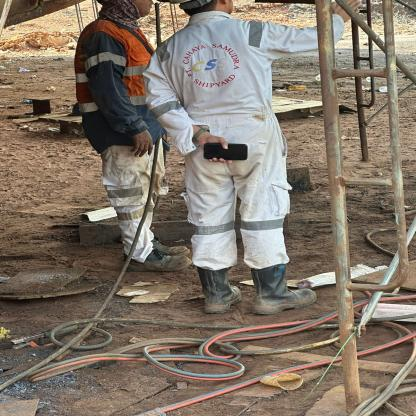bota: (249, 266, 318, 316), (196, 265, 244, 314), (131, 247, 188, 274), (148, 238, 187, 256)
